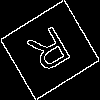R: (25, 24, 78, 82)
